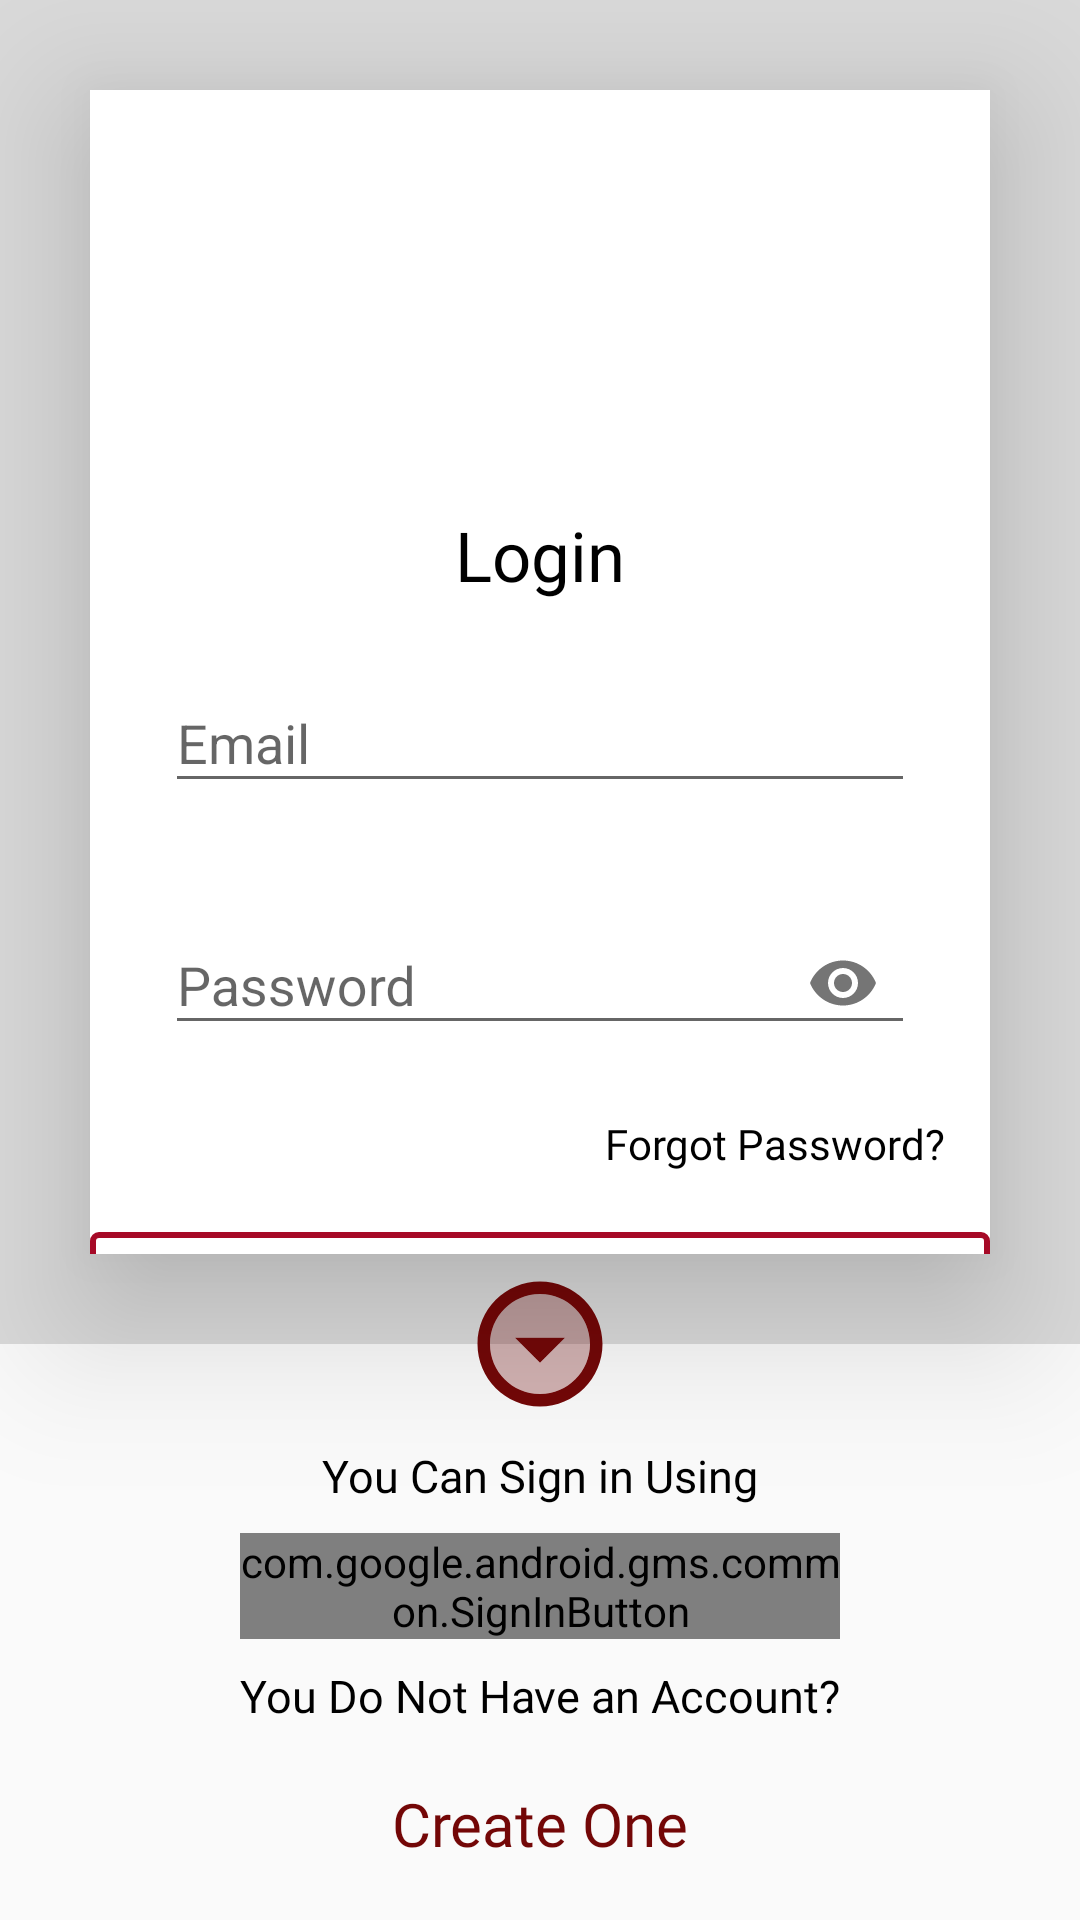

Screen size 1080 × 1920. Icon name, then its center in pixels as (x=x, y=y):
arrow drop: (x=540, y=1344)
